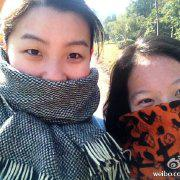OK: (129, 54, 180, 145)
WRONG: (11, 10, 93, 117)
